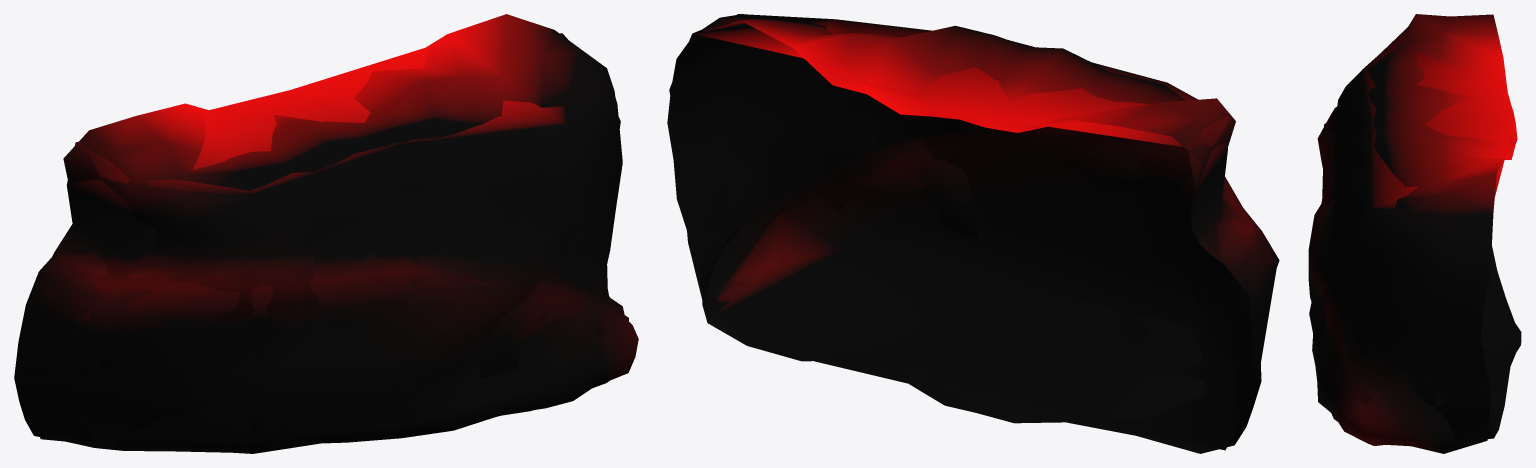
File: JD_Cave_A_Rock_01.fbx
3 renders of one model, left to right at view 1: azimuth 30°, elevation 25°; view 2: azimuth 150°, elevation 25°; view 3: azimuth 270°, elevation 25°, orthographic. The views are drawn at different scales.
Parts seen in each view (by area): view 1: JD_Cave_A_Rock_01, C_JD_Cave_A_Rock_01; view 2: C_JD_Cave_A_Rock_01, JD_Cave_A_Rock_01; view 3: JD_Cave_A_Rock_01, C_JD_Cave_A_Rock_01.
Boxes of the visible parts, box(x1,y1,x2,y2) form: JD_Cave_A_Rock_01: box(14, 14, 638, 452); C_JD_Cave_A_Rock_01: box(28, 33, 628, 453); C_JD_Cave_A_Rock_01: box(669, 14, 1276, 450); JD_Cave_A_Rock_01: box(667, 14, 1279, 453); JD_Cave_A_Rock_01: box(1308, 14, 1521, 451); C_JD_Cave_A_Rock_01: box(1313, 28, 1514, 453).
Size of the model in its own units: 10.57 by 5.58 by 4.06.
